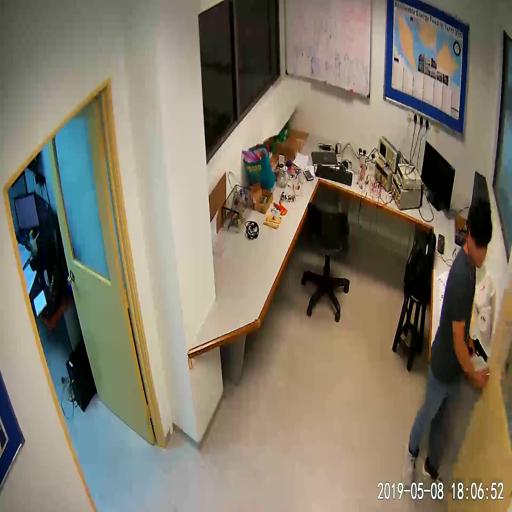pistol: (468, 335, 488, 361)
